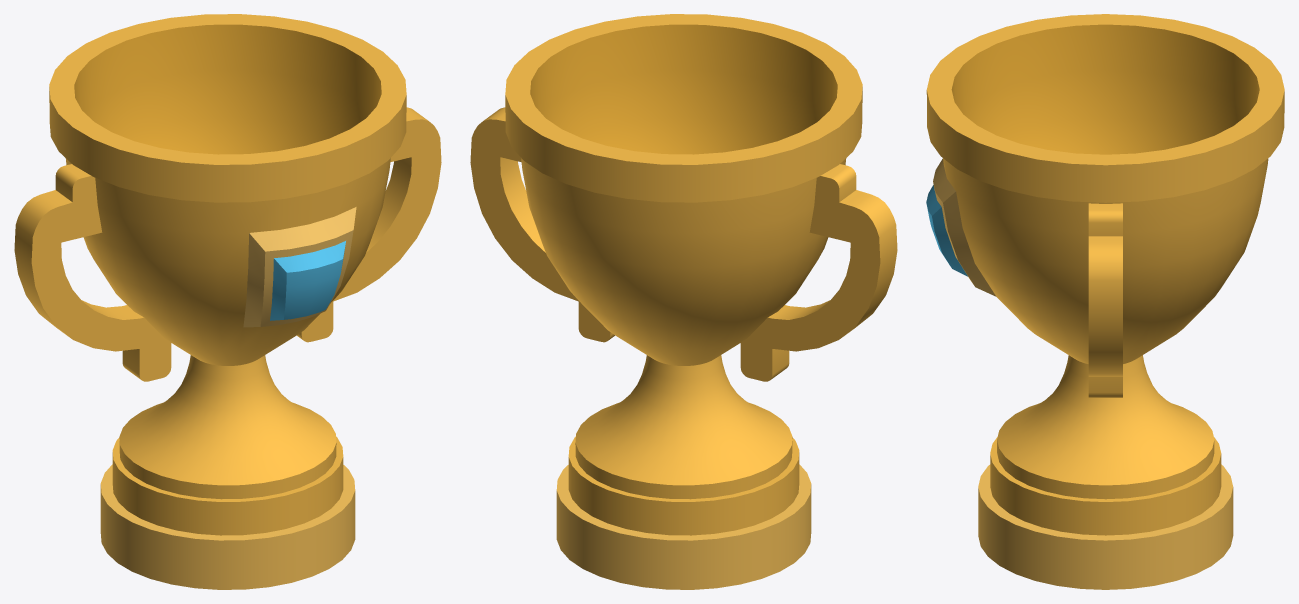
The model's file is Goblet C Multi.fbx.
3 views of the same model, side by side, from view 1: azimuth 30°, elevation 25°; view 2: azimuth 150°, elevation 25°; view 3: azimuth 270°, elevation 25° (orthographic).
Visible parts, largest first — view 1: Goblet C; view 2: Goblet C; view 3: Goblet C.
Part boxes in pixels (x1,y1,x2,y2): Goblet C: (14,14,441,589); Goblet C: (470,14,897,589); Goblet C: (926,14,1284,589).
Bounding box in the file's own units: 0.594 × 0.6185 × 0.45.
